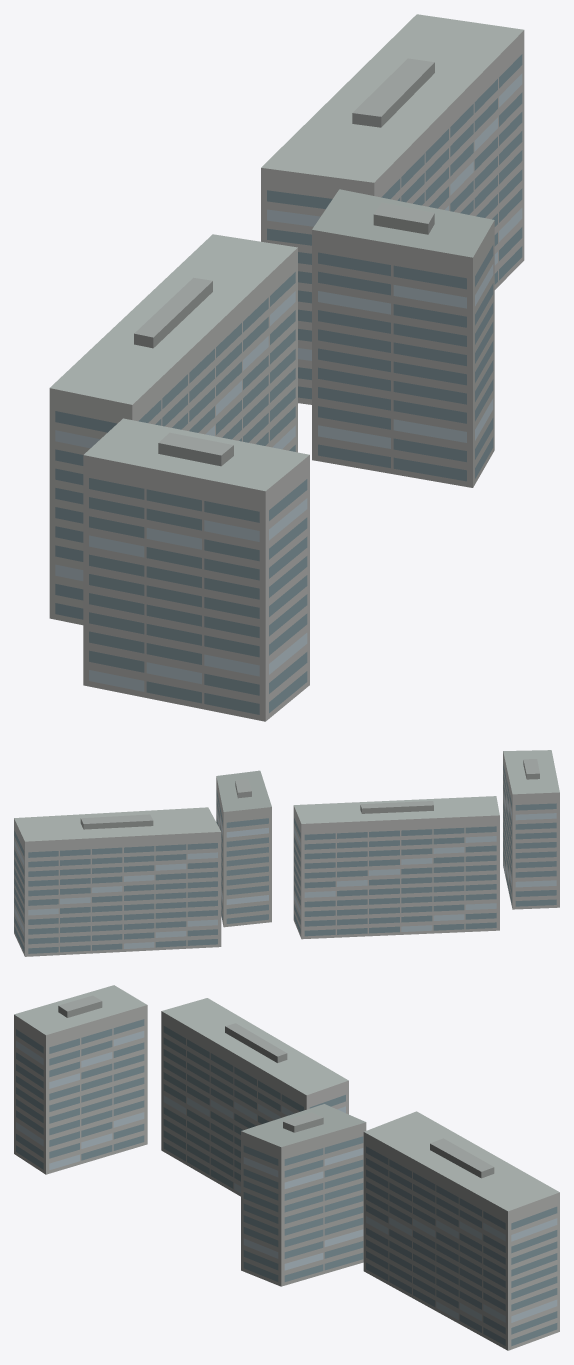
Rendered from apt-a14074501.glb.
3 views of the same model, one above another, from view 1: azimuth 30°, elevation 25°; view 2: azimuth 150°, elevation 25°; view 3: azimuth 270°, elevation 25° (orthographic). The views are drawn at different scales.
Visible parts, largest first — view 1: apt-a14074501; view 2: apt-a14074501; view 3: apt-a14074501.
Part boxes in pixels (box(x1,y1,x2,y2)): apt-a14074501: box(49, 14, 524, 721); apt-a14074501: box(14, 750, 559, 956); apt-a14074501: box(14, 985, 559, 1350).
Size of the model in its own units: 113 by 34 by 115.
